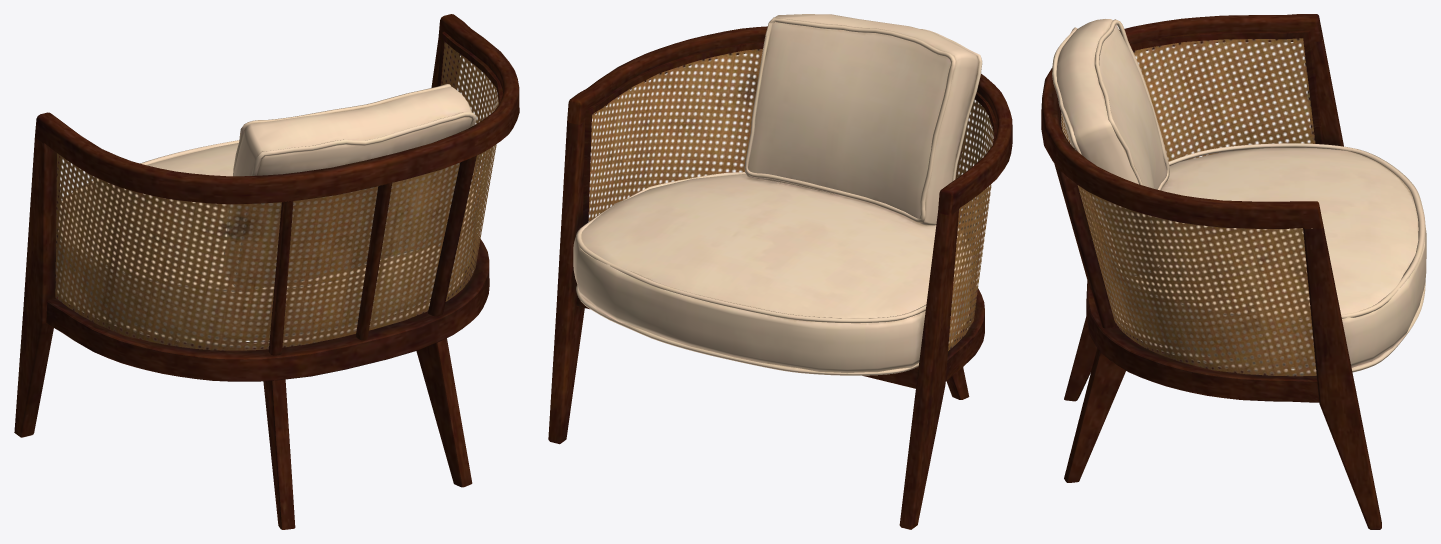
File: armchair_midcentury_harvey_probber_eireni.glb
3 views of the same model, side by side, from view 1: azimuth 30°, elevation 25°; view 2: azimuth 150°, elevation 25°; view 3: azimuth 270°, elevation 25° (orthographic). The views are drawn at different scales.
Visible parts, largest first — view 1: Object_2; view 2: Object_2; view 3: Object_2.
Boxes of the visible parts, x1,y1,x2,y2 form: Object_2: [14, 14, 519, 529]; Object_2: [548, 14, 1012, 529]; Object_2: [1041, 14, 1426, 529].
Size of the model in its own units: 73.14 by 65.73 by 61.4.
Materials: 1 (1 with a texture image).
